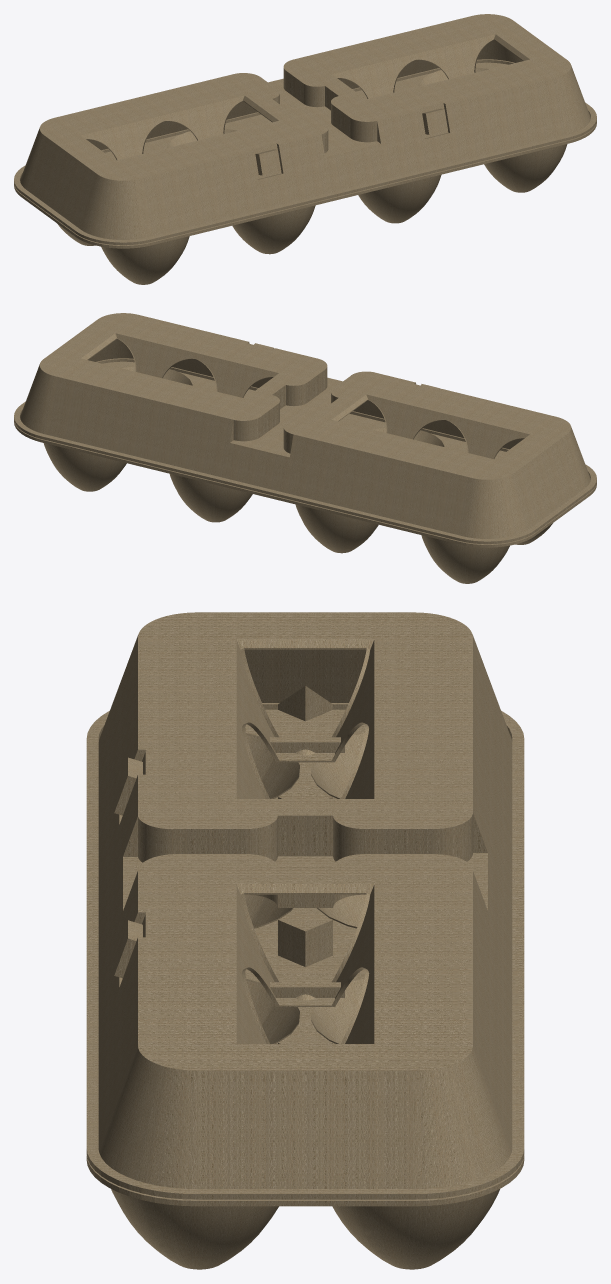
Rendered from eggs.dae.
3 renders of one model, top to bottom at view 1: azimuth 30°, elevation 25°; view 2: azimuth 150°, elevation 25°; view 3: azimuth 270°, elevation 25°, orthographic. The views are drawn at different scales.
Visible parts, largest first — view 1: SketchUp (×11); view 2: SketchUp (×9); view 3: SketchUp (×15), group_4, group_0.
Part boxes in pixels (<box>): SketchUp (×11): <box>14,14,596,284</box>; SketchUp (×9): <box>14,313,596,583</box>; SketchUp (×15): <box>86,612,524,1269</box>; group_4: <box>266,982,344,997</box>; group_0: <box>266,737,344,752</box>.
Size of the model in its own units: 11.85 by 4.37 by 2.58.
Materials: 2 (2 with a texture image).
